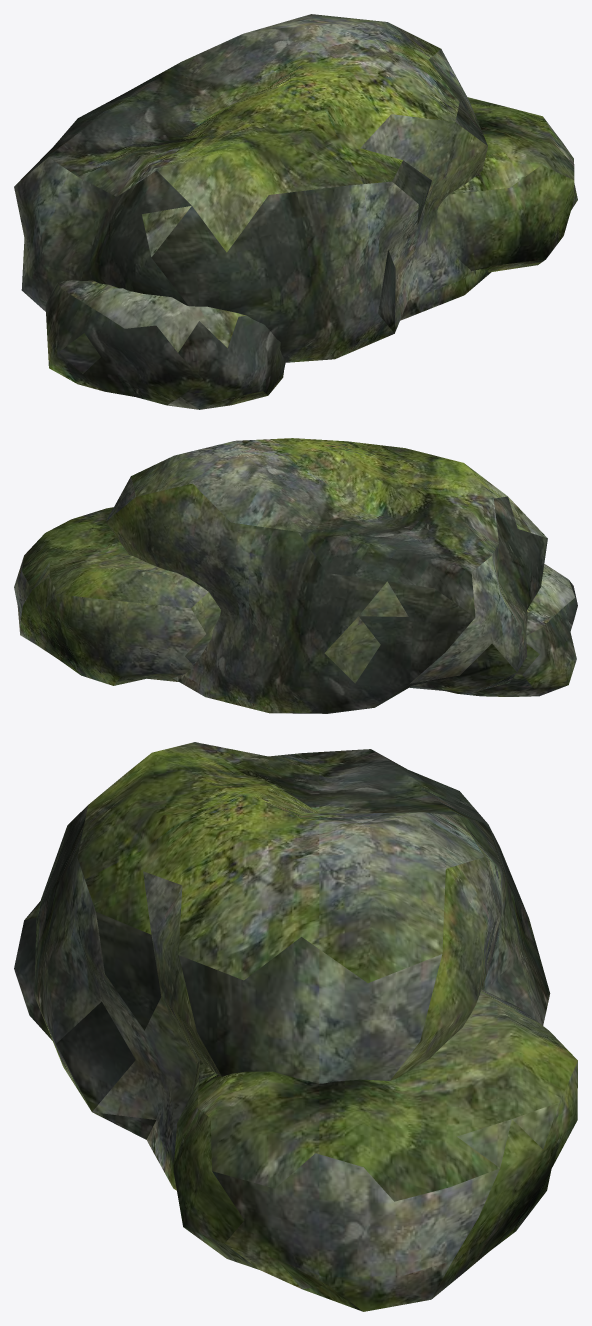
Rendered from rock_cliff_b.glb.
3 renders of one model, top to bottom at view 1: azimuth 30°, elevation 25°; view 2: azimuth 150°, elevation 25°; view 3: azimuth 270°, elevation 25°, orthographic. The views are drawn at different scales.
Visible parts, largest first — view 1: rock_cliff_b; view 2: rock_cliff_b; view 3: rock_cliff_b.
Part boxes in pixels (bbox=[...]): rock_cliff_b: bbox=[14, 14, 577, 409]; rock_cliff_b: bbox=[14, 438, 577, 713]; rock_cliff_b: bbox=[14, 742, 577, 1311].
Bounding box in the file's own units: 4.88 × 2.07 × 3.18.
1 material, 1 textured.
